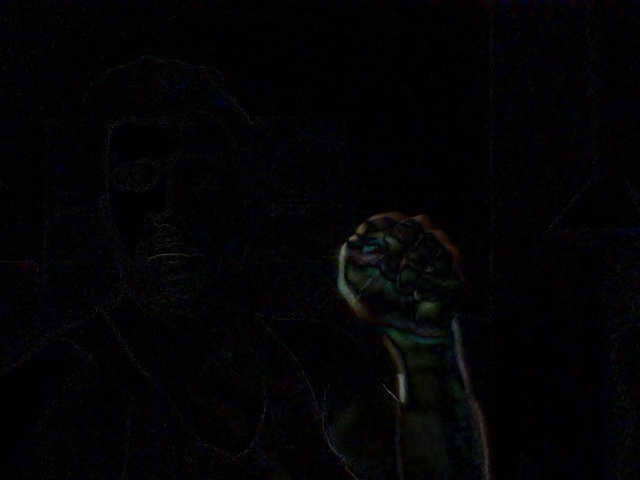hand_fi: (320, 210, 484, 334)
